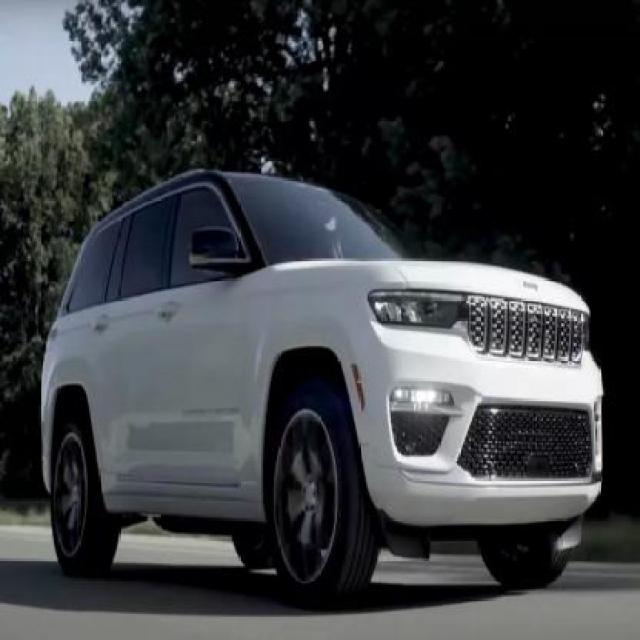Jeep: (36, 164, 604, 602)
